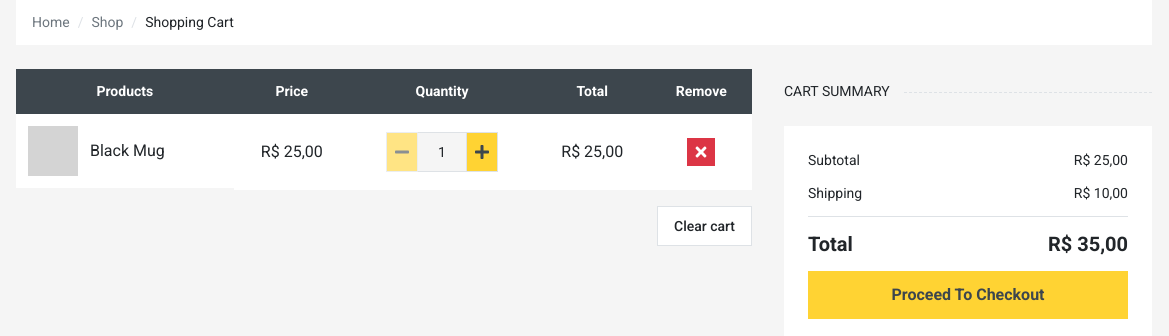
Scenario: Cart › shows the new shipping and total after the quantity of a line changes
Expected: the text "Black Mug" is shown, [90, 139, 165, 163]
Expected: the text "Total" reads "Total R$ 35,00", [1048, 232, 1128, 256]
Click the button named "Increase quantity" at (482, 152), box [466, 132, 498, 172]
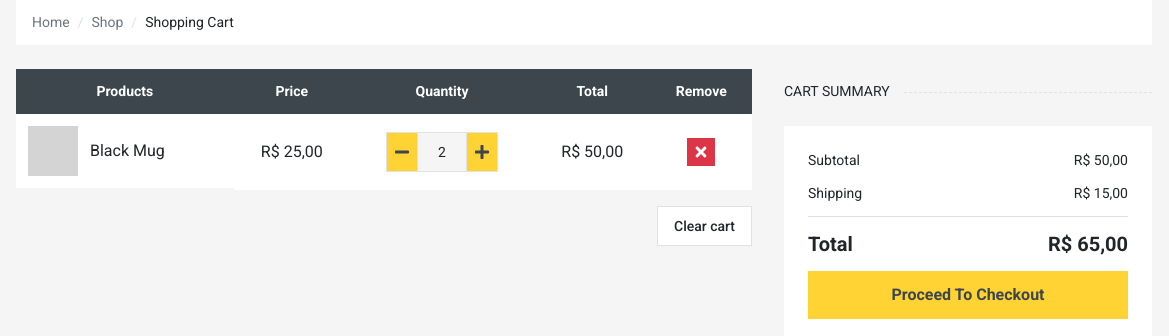
Result: the text "Total" reads "Total R$ 65,00" at [1048, 232, 1128, 256]
Result: the text "Shipping" reads "Shipping R$ 15,00" at [1074, 185, 1128, 201]
